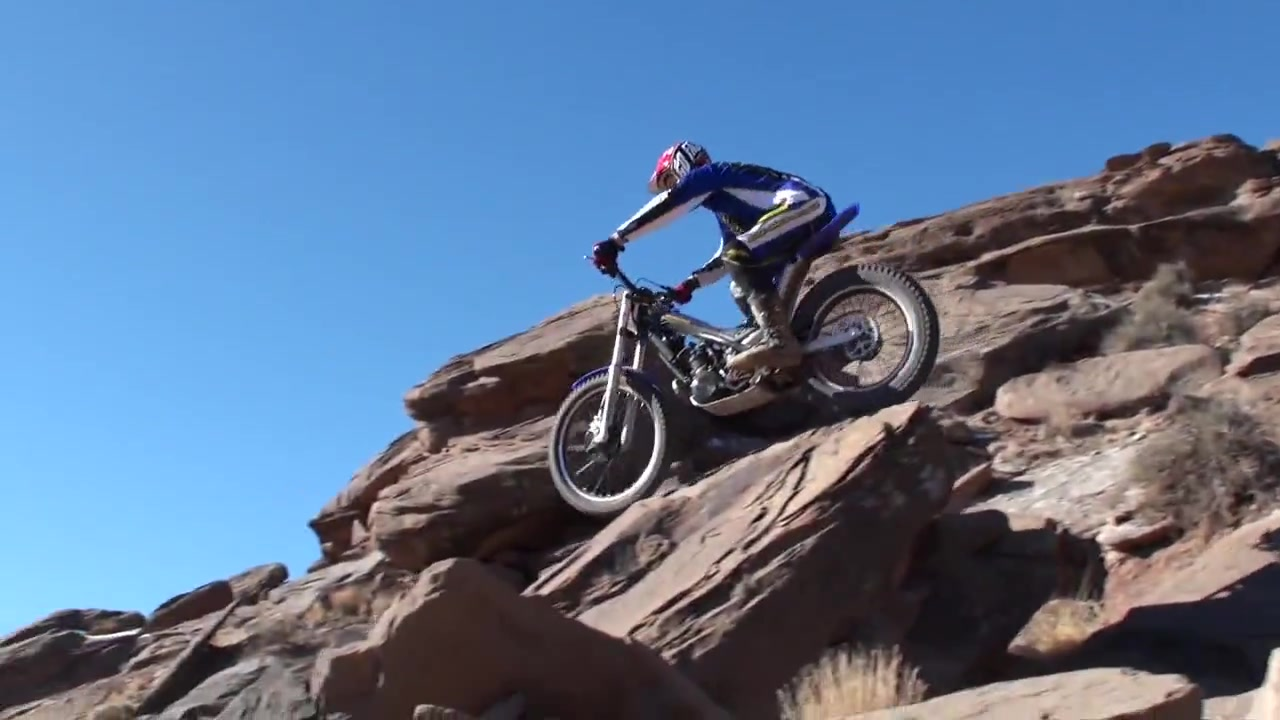motorbike: (549, 191, 942, 520)
